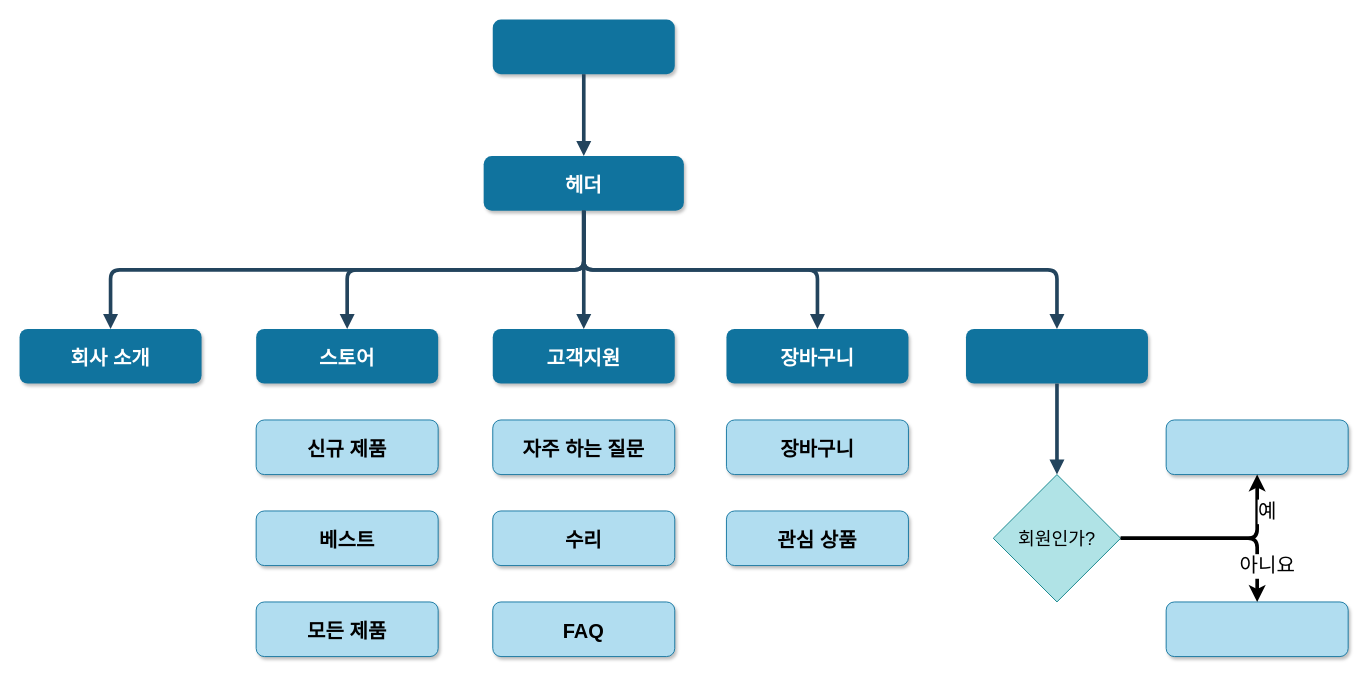
The diagram is 1370 pixels wide and 679 high, and some of its shapes have lost their labels. The centre of each missing label's shape, as x and y in pixels:
"로그인" belongs at (1258,448).
"로그인/회원가입" belongs at (1057,357).
"홈페이지" belongs at (584,47).
"회원가입" belongs at (1258,630).
